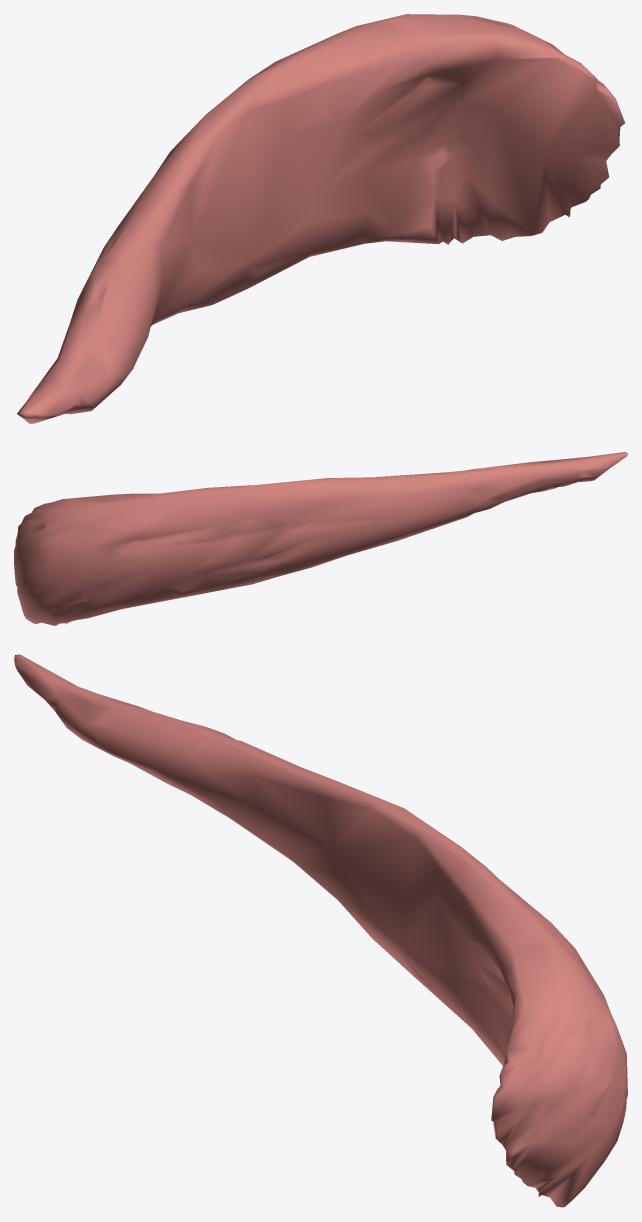
The picture shows the model from 3 angles, top to bottom: view 1: azimuth 30°, elevation 25°; view 2: azimuth 150°, elevation 25°; view 3: azimuth 270°, elevation 25°; orthographic projection. The views are drawn at different scales.
Visible parts, largest first — view 1: ZA_a4c01feb0c1b3386; view 2: ZA_a4c01feb0c1b3386; view 3: ZA_a4c01feb0c1b3386.
Boxes of the visible parts, left/top/right/bottom form: ZA_a4c01feb0c1b3386: left=17, top=14, right=624, bottom=423; ZA_a4c01feb0c1b3386: left=14, top=452, right=627, bottom=625; ZA_a4c01feb0c1b3386: left=14, top=654, right=627, bottom=1207.
Size of the model in its own units: 0.0728 by 0.0232 by 0.0543.
